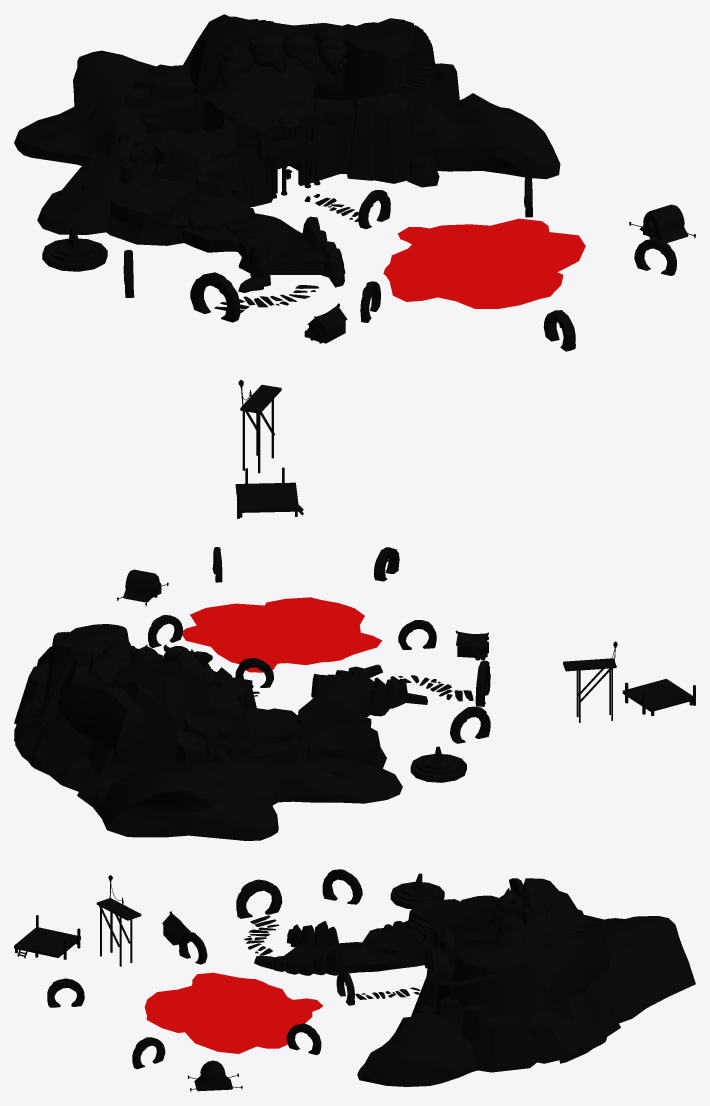
File: Neighborhood_CoralCove_03.glb
3 views of the same model, one above another, from view 1: azimuth 30°, elevation 25°; view 2: azimuth 150°, elevation 25°; view 3: azimuth 270°, elevation 25° (orthographic). The views are drawn at different scales.
Parts seen in each view (by area): view 1: Neighborhood_CoralCove_03; view 2: Neighborhood_CoralCove_03; view 3: Neighborhood_CoralCove_03.
Part boxes in pixels (left/top/right/bottom): Neighborhood_CoralCove_03: left=14, top=14, right=695, bottom=518; Neighborhood_CoralCove_03: left=14, top=547, right=695, bottom=840; Neighborhood_CoralCove_03: left=14, top=869, right=695, bottom=1091.
Size of the model in its own units: 39.83 by 14.65 by 51.48.
